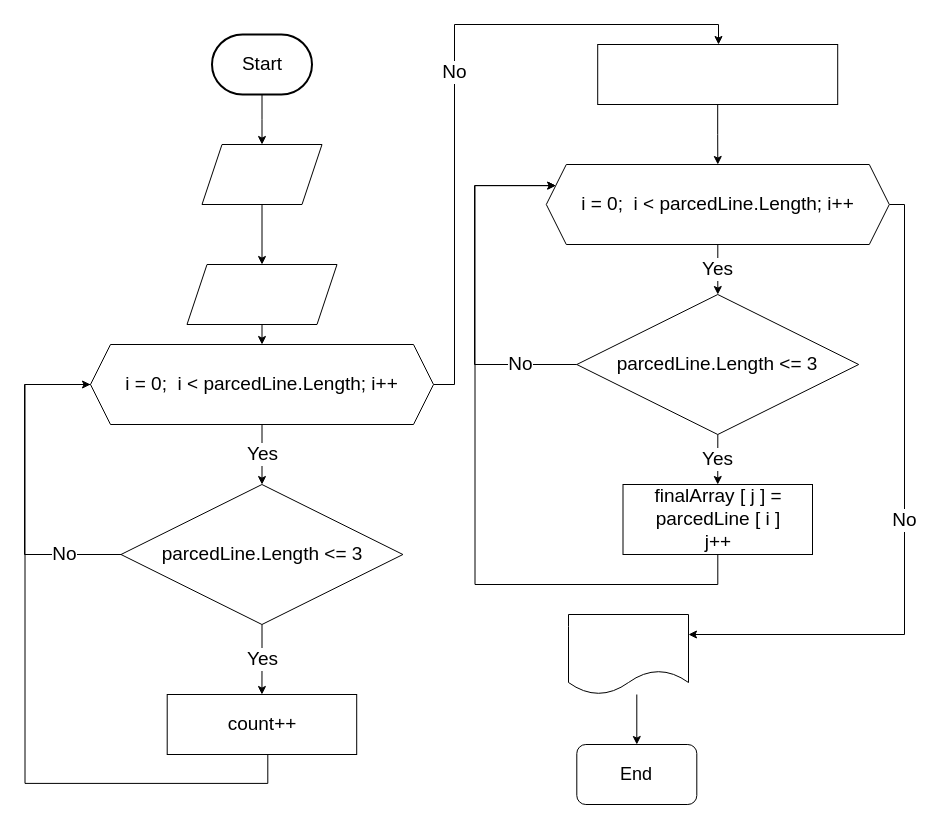
Image size: 934x822. Some labels were removed from this diagram. Here are the shapes that lost their labels. From the top down, the box of each, then its label:
(597, 44, 838, 104): finalArray.Length = count j=0
(201, 144, 322, 204): input line
(186, 264, 337, 324): parcedLine[ ]
(568, 614, 688, 694): print (finalArray)
